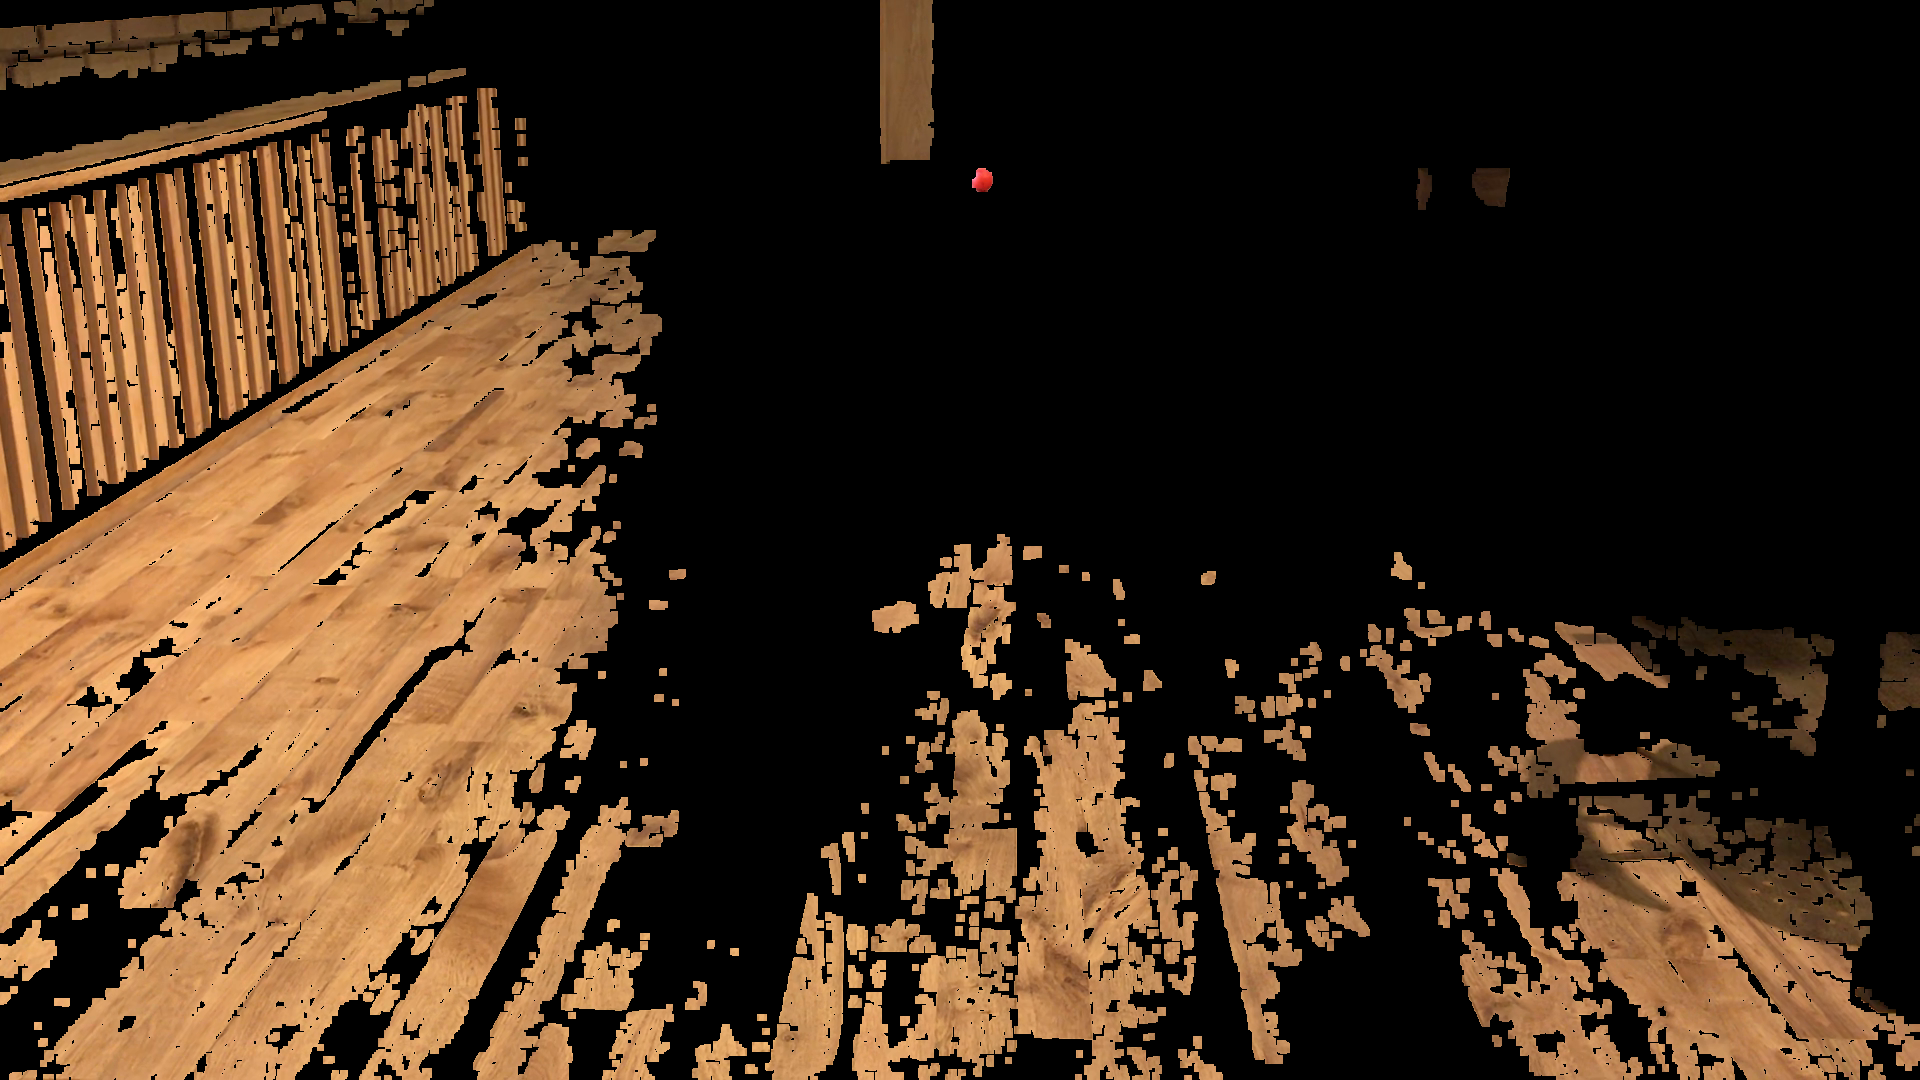Ball: (972, 167, 994, 193)
